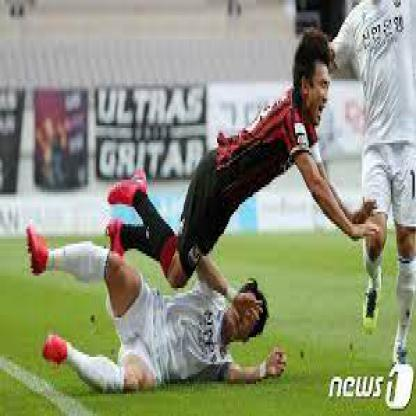Fall_Down: (104, 31, 380, 295)
